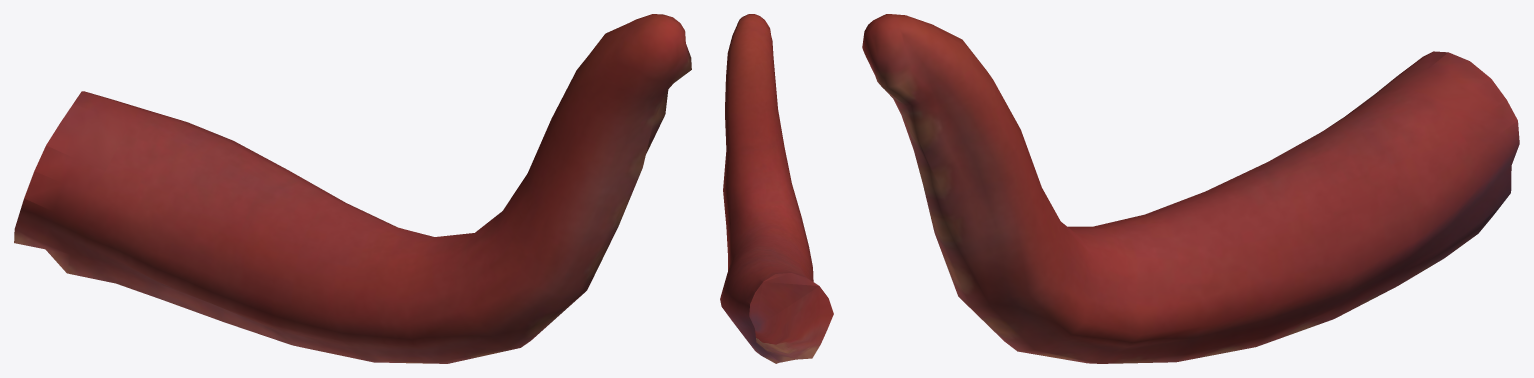
The model's file is tentaculo8.obj.
The picture shows the model from 3 angles, left to right: view 1: azimuth 30°, elevation 25°; view 2: azimuth 150°, elevation 25°; view 3: azimuth 270°, elevation 25°; orthographic projection. The views are drawn at different scales.
Visible parts, largest first — view 1: tentacle8; view 2: tentacle8; view 3: tentacle8.
Part boxes in pixels (<box>): tentacle8: <box>14,14,691,363</box>; tentacle8: <box>720,14,833,363</box>; tentacle8: <box>862,14,1519,363</box>.
Size of the model in its own units: 221 by 196 by 276.
Materials: 2 (2 with a texture image).
